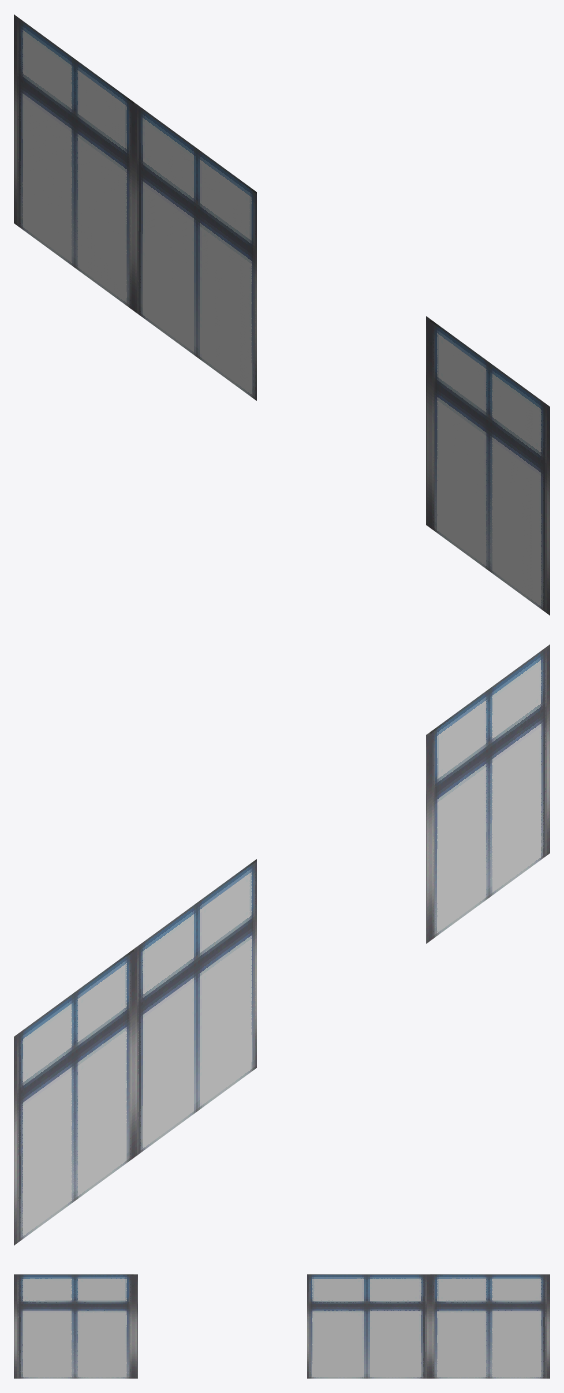
The model's file is window.fbx.
3 views of the same model, one above another, from view 1: azimuth 30°, elevation 25°; view 2: azimuth 150°, elevation 25°; view 3: azimuth 270°, elevation 25° (orthographic). The views are drawn at different scales.
Visible parts, largest first — view 1: window, window1; view 2: window, window1; view 3: window, window1.
Part boxes in pixels (left/top/right/bottom): window: left=14, top=14, right=256, bottom=400; window1: left=426, top=316, right=549, bottom=615; window: left=14, top=859, right=256, bottom=1245; window1: left=426, top=644, right=549, bottom=943; window: left=307, top=1274, right=549, bottom=1378; window1: left=14, top=1274, right=137, bottom=1378.
Size of the model in its own units: 0 by 32.91 by 153.
1 material, 1 textured.
